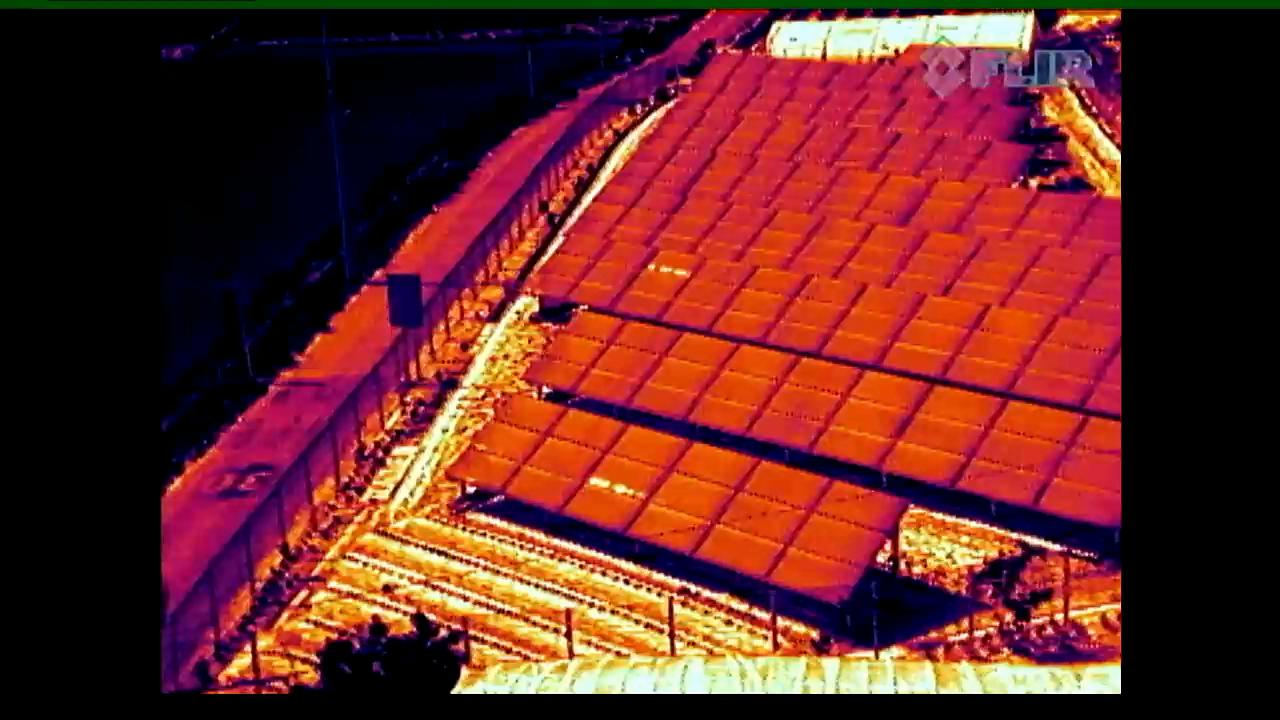hotspot: (564, 423, 692, 536), (612, 249, 703, 324)
